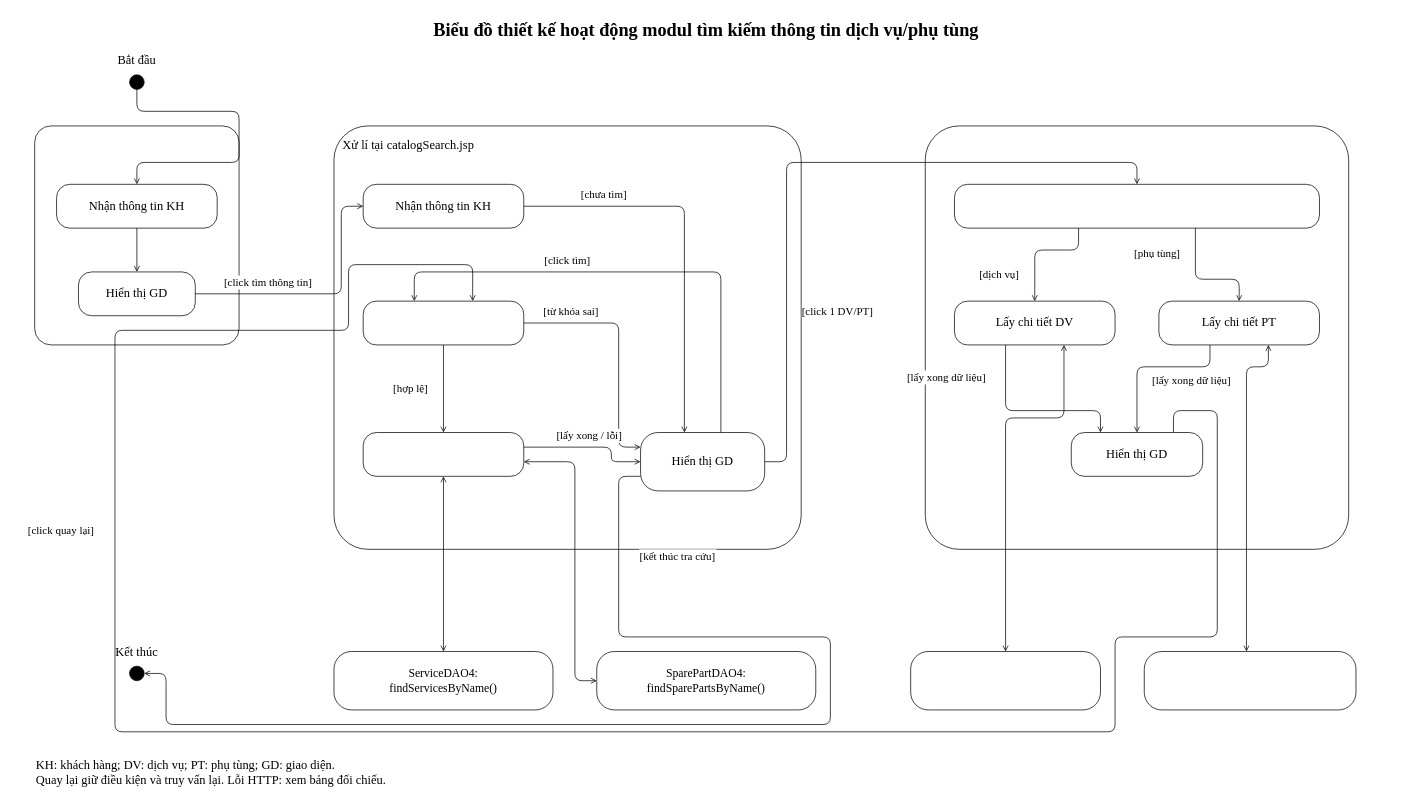
The diagram is 1412 pixels wide and 801 high, and some of its shapes have lost their labels. The shapes that lost their labels are listed below. From the top down, each one's box as (x1, y1, x2, y2) in pixels, then its label:
(954, 184, 1319, 228): Nhận thông tin DV/PT
(34, 125, 239, 345): Xử lí tại customerHome.jsp
(362, 300, 524, 345): Nhận từ khóa
(925, 125, 1349, 549): Xử lí tại itemDetails.jsp
(362, 432, 524, 476): Lấy thông tin DV/PT
(910, 651, 1100, 710): ServiceDAO4: getServiceDetails()
(1144, 651, 1356, 710): SparePartDAO4: getSparePartDetails()
